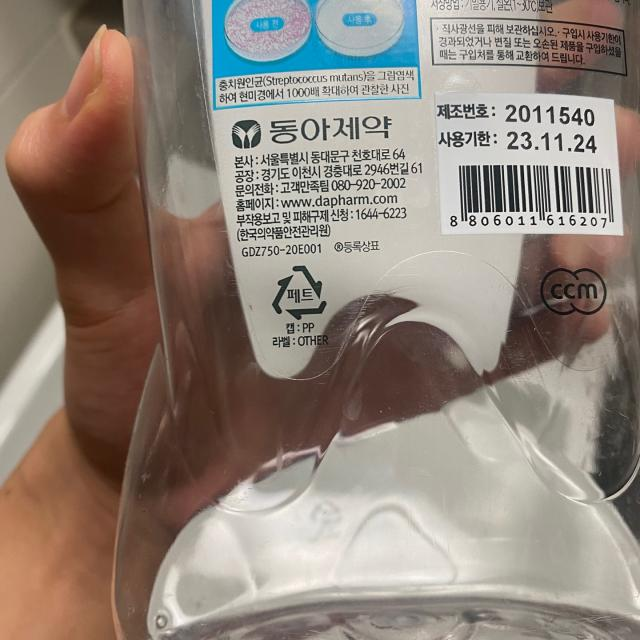PET: (264, 261, 334, 324)
